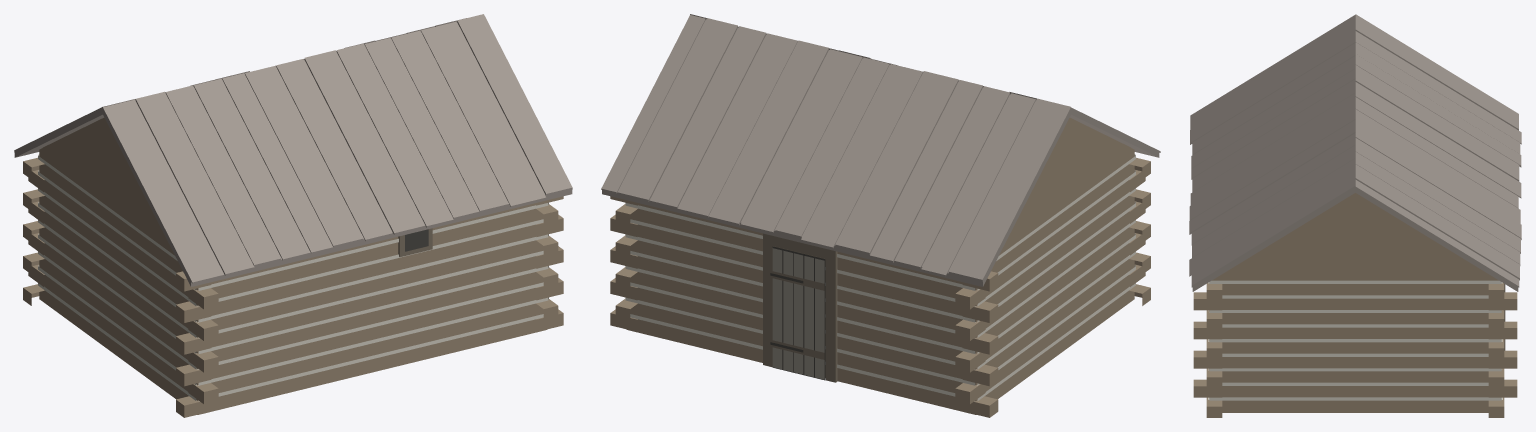
Rendered from first_fort_outer_bake_house__first_fort_1803.glb.
3 views of the same model, side by side, from view 1: azimuth 30°, elevation 25°; view 2: azimuth 150°, elevation 25°; view 3: azimuth 270°, elevation 25° (orthographic). The views are drawn at different scales.
Parts seen in each view (by area): view 1: first_fort_outer_bake_house__first_fort_1803; view 2: first_fort_outer_bake_house__first_fort_1803; view 3: first_fort_outer_bake_house__first_fort_1803.
Part boxes in pixels (box(x1,y1,x2,y2)): first_fort_outer_bake_house__first_fort_1803: box(14, 14, 572, 417); first_fort_outer_bake_house__first_fort_1803: box(601, 14, 1160, 417); first_fort_outer_bake_house__first_fort_1803: box(1189, 14, 1521, 417).
Bounding box in the file's own units: 6.18 × 3.94 × 5.06.
